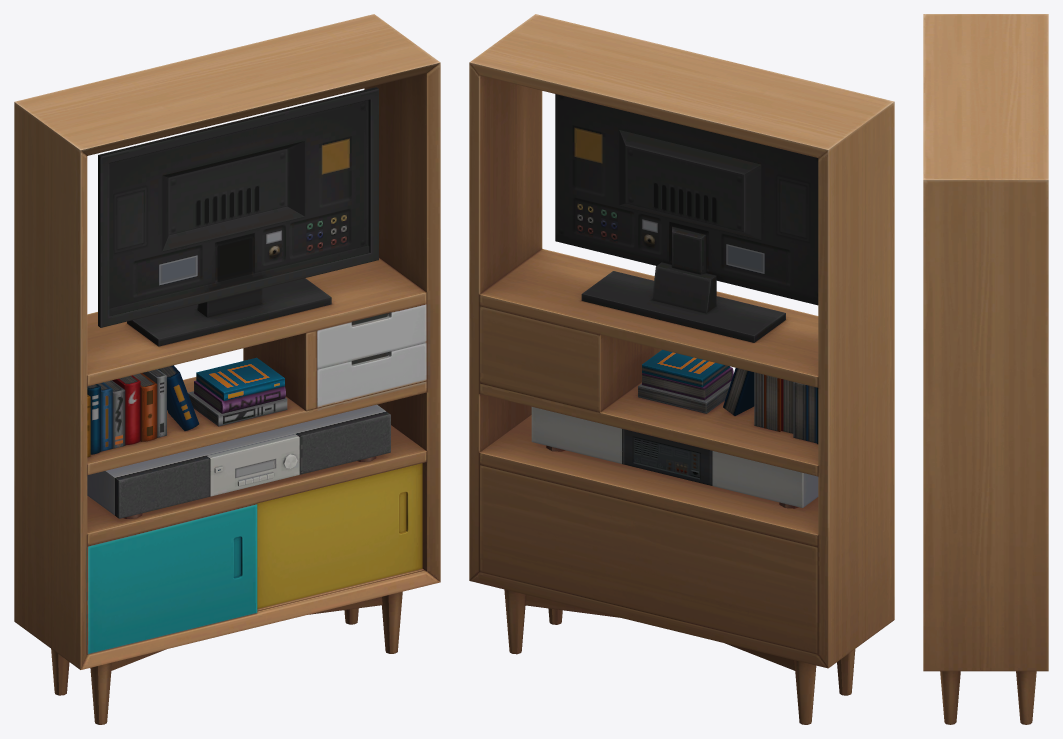
The model's file is MediaMarathoner.fbx.
3 views of the same model, side by side, from view 1: azimuth 30°, elevation 25°; view 2: azimuth 150°, elevation 25°; view 3: azimuth 270°, elevation 25° (orthographic). The views are drawn at different scales.
Parts seen in each view (by area): view 1: TinyLiving_MediaMarathoner; view 2: TinyLiving_MediaMarathoner; view 3: TinyLiving_MediaMarathoner.
Boxes of the visible parts, x1,y1,x2,y2 form: TinyLiving_MediaMarathoner: (14, 14, 440, 724); TinyLiving_MediaMarathoner: (469, 14, 894, 724); TinyLiving_MediaMarathoner: (923, 14, 1048, 724).
Size of the model in its own units: 133 by 209 by 42.5.
